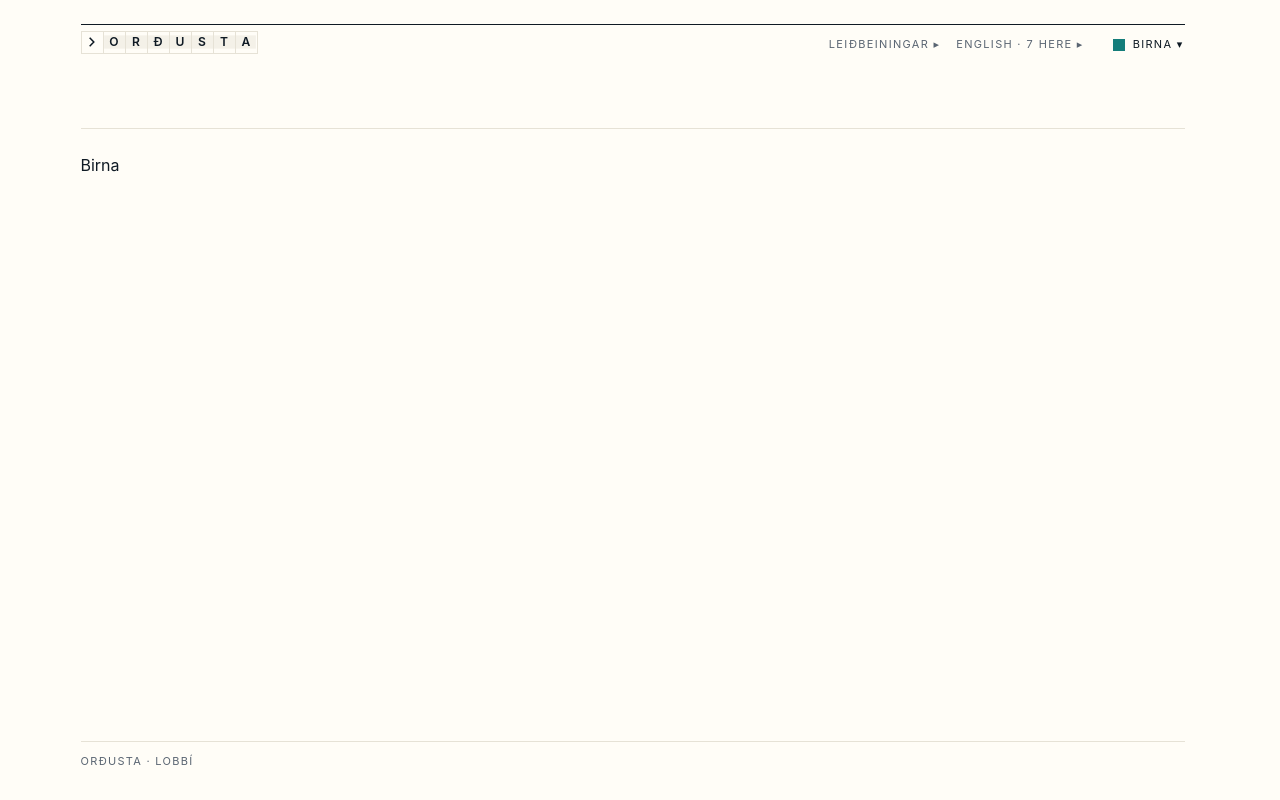
Test: PageFrame › opens the menu from your name, your profile first and sign out last
This screenshot has width=1280, height=800.
Click the button with aria-label "Birna · valmynd" at (1148, 44), box [1100, 26, 1196, 62]
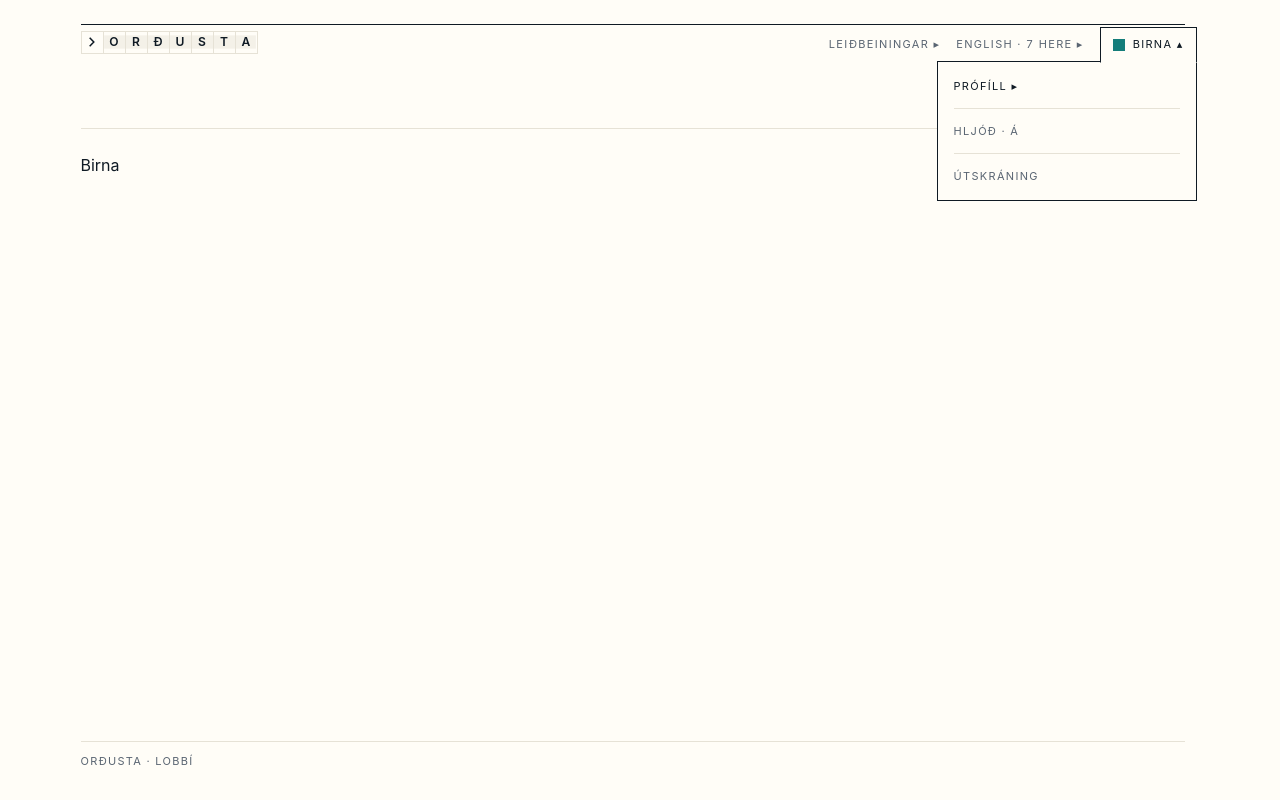
expect the button with aria-label "Birna · valmynd" reads "Birna ▴": met, box [1100, 26, 1196, 62]
expect the menu item "prófíll ▸" is shown: met, box [954, 79, 1018, 93]
expect the menu item "útskráning" is shown: met, box [954, 164, 1180, 188]
